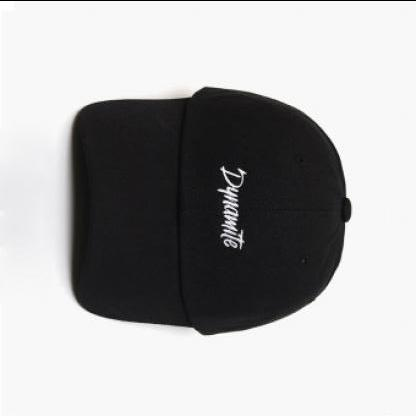cap: (65, 82, 356, 340)
